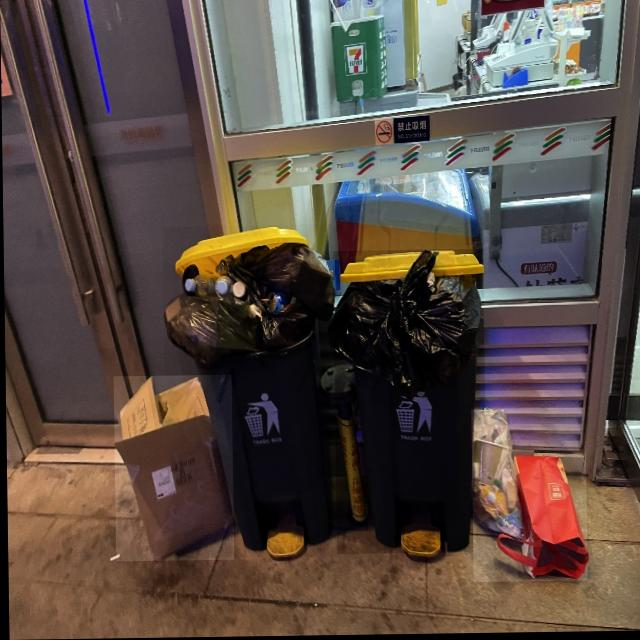garbage: (112, 375, 233, 562), (470, 409, 586, 584)
overflow: (162, 225, 336, 559), (323, 250, 485, 555)
